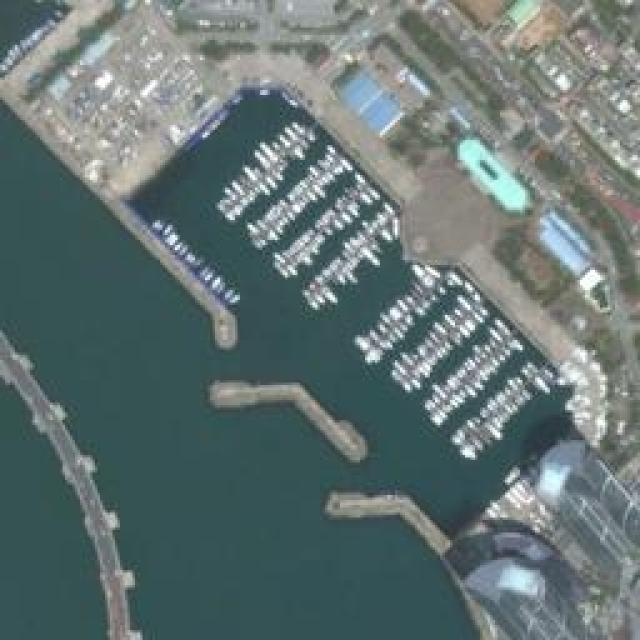Beach: (0, 98, 490, 640)
City: (0, 0, 638, 638)
Port: (103, 70, 609, 575)
